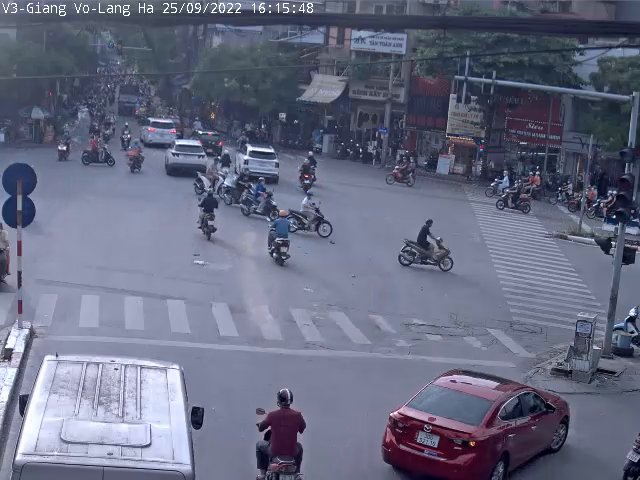người trên xe: (244, 386, 315, 480), (398, 210, 454, 278), (285, 190, 334, 242), (243, 174, 282, 221), (261, 210, 292, 267), (76, 133, 116, 171), (498, 178, 532, 216), (197, 189, 221, 242), (117, 138, 148, 176), (387, 154, 419, 188), (50, 130, 76, 164), (293, 162, 320, 193)
